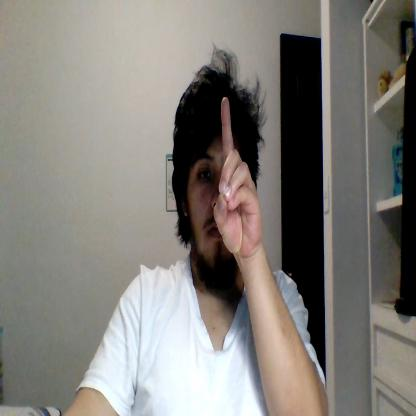D: (214, 97, 262, 255)
